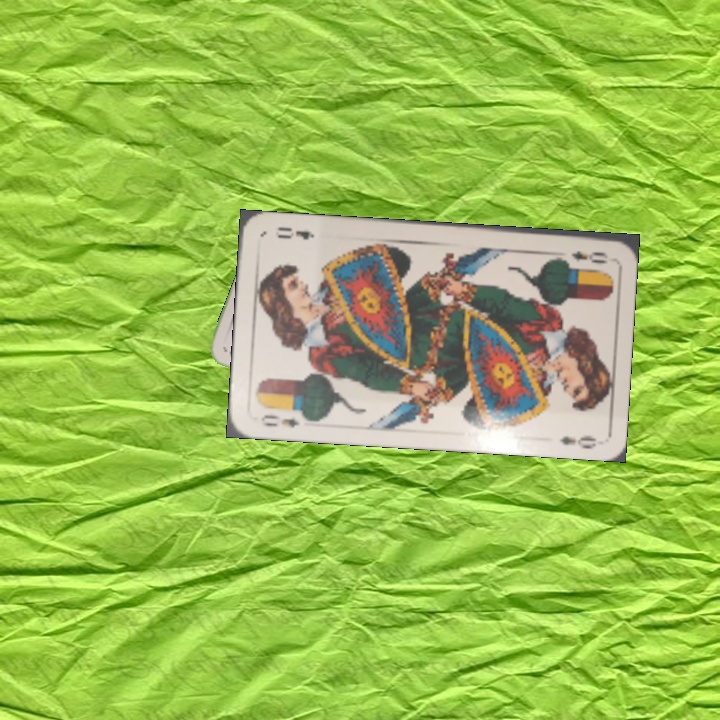EO: (257, 406, 311, 430), (567, 246, 610, 266)
